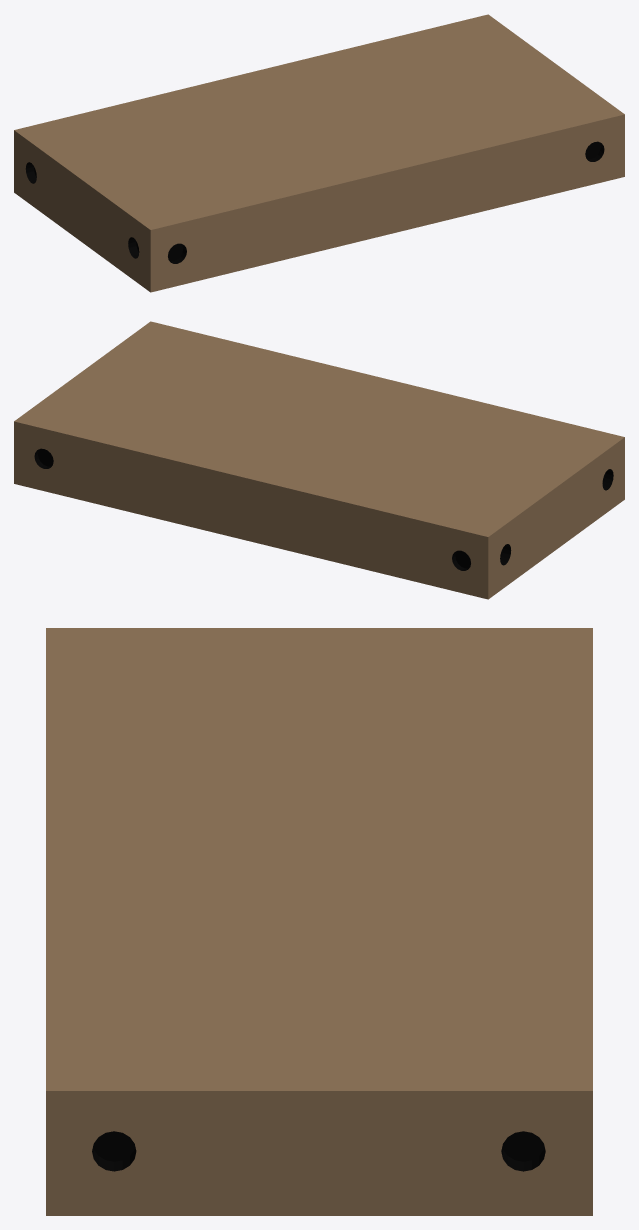
File: Belka.fbx
3 views of the same model, one above another, from view 1: azimuth 30°, elevation 25°; view 2: azimuth 150°, elevation 25°; view 3: azimuth 270°, elevation 25° (orthographic). The views are drawn at different scales.
Visible parts, largest first — view 1: Cube.064; view 2: Cube.064; view 3: Cube.064.
Boxes of the visible parts, left/top/right/bottom form: Cube.064: left=14, top=14, right=624, bottom=292; Cube.064: left=14, top=321, right=624, bottom=599; Cube.064: left=46, top=628, right=592, bottom=1215.
Size of the model in its own units: 319 by 40.13 by 159.
